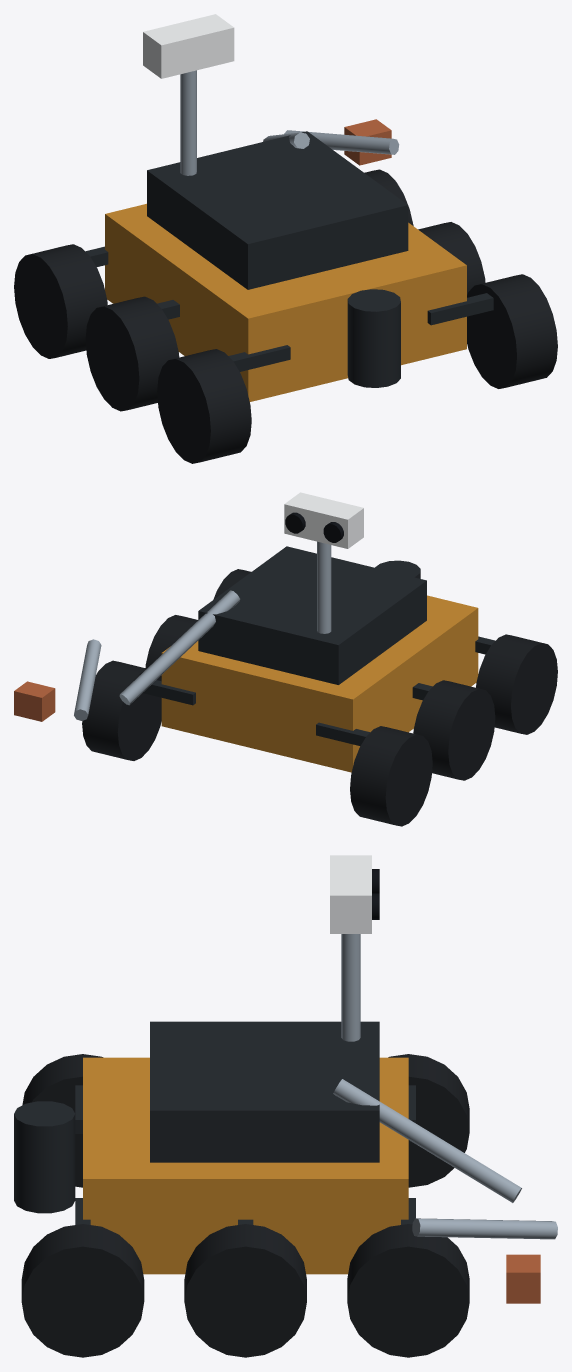
Rendered from perseverance.glb.
3 views of the same model, one above another, from view 1: azimuth 30°, elevation 25°; view 2: azimuth 150°, elevation 25°; view 3: azimuth 270°, elevation 25° (orthographic). The views are drawn at different scales.
Parts seen in each view (by area): view 1: Perseverance; view 2: Perseverance; view 3: Perseverance.
Boxes of the visible parts, left/top/right/bottom form: Perseverance: left=14, top=14, right=557, bottom=463; Perseverance: left=14, top=492, right=557, bottom=826; Perseverance: left=14, top=855, right=557, bottom=1357.
Bounding box in the file's own units: 3.79 × 2.89 × 3.99.
